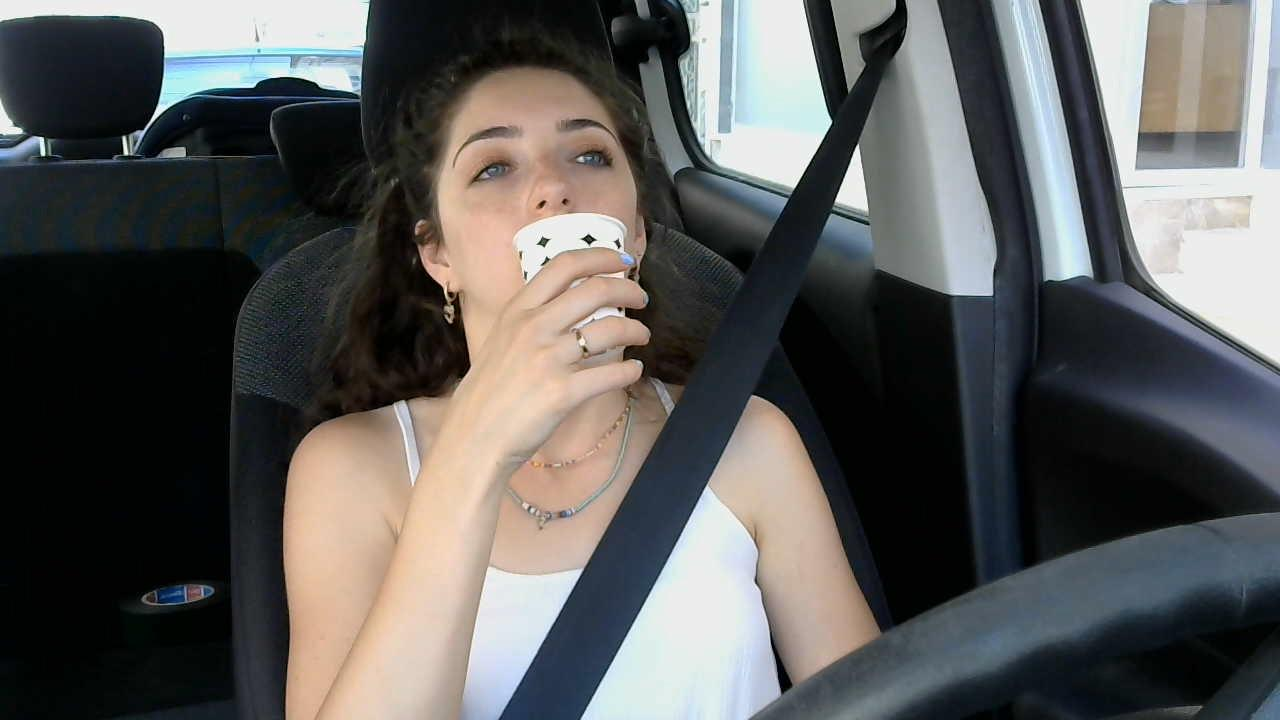Drinking: (416, 69, 648, 395)
